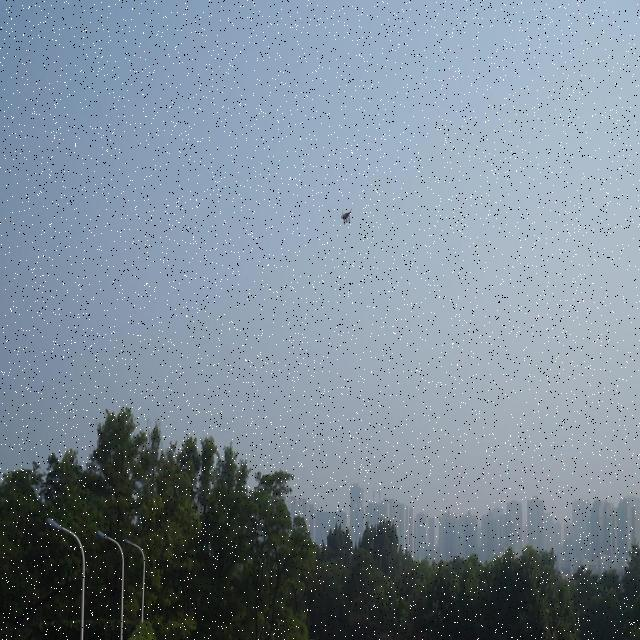UAV: (340, 209, 352, 225)
